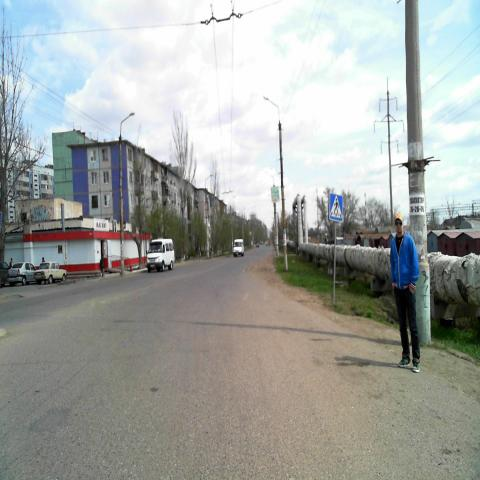5_19_1: (328, 191, 344, 221)
